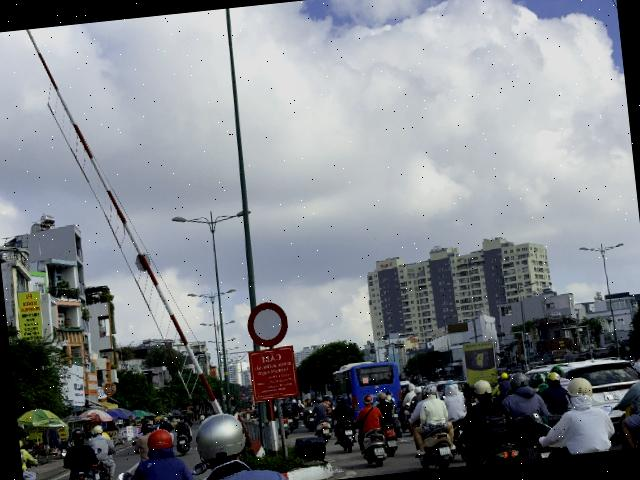duong-cam: (246, 300, 290, 349)
